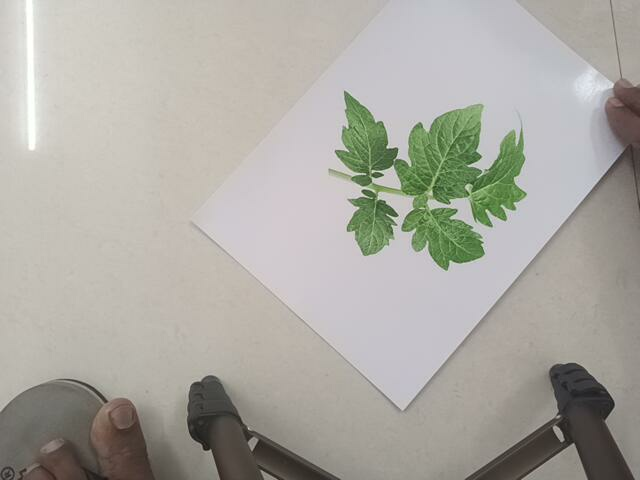Tomamto_Leaf_Healthy: (327, 97, 524, 271)
